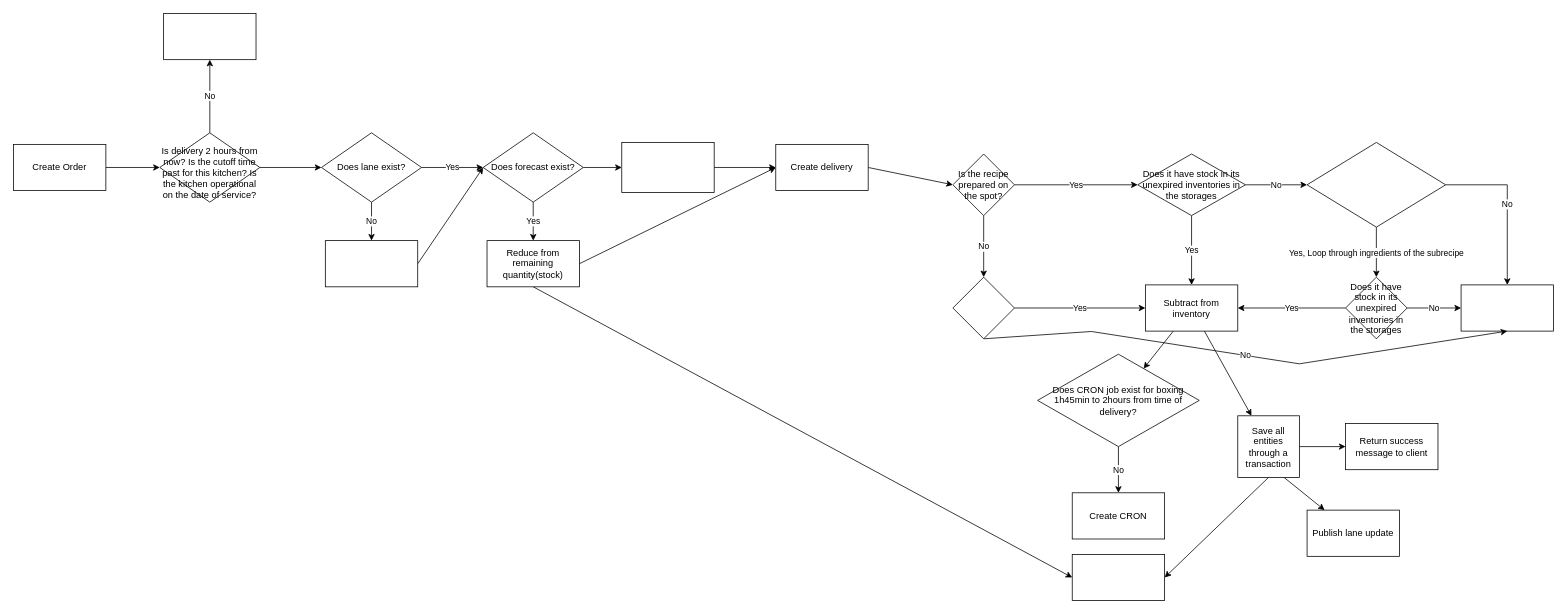
The diagram is 1567 pixels wide and 614 high, and some of its shapes have lost their labels. Each missing label, with the centre of its shape:
"Add to inprocessing" belongs at point 667,167.
"Create lane" belongs at point 371,263.
"Does the recipe have inventories:?" belongs at point 983,307.
"Is it a subrecipe and Is subrecipe made on the same day?" belongs at point 1376,184.
"Not enough stock" belongs at point 1506,307.
"Publish event with stock from remaining count" belongs at point 1118,577.
"Unable to create order, return failure message to client" belongs at point 209,36.
